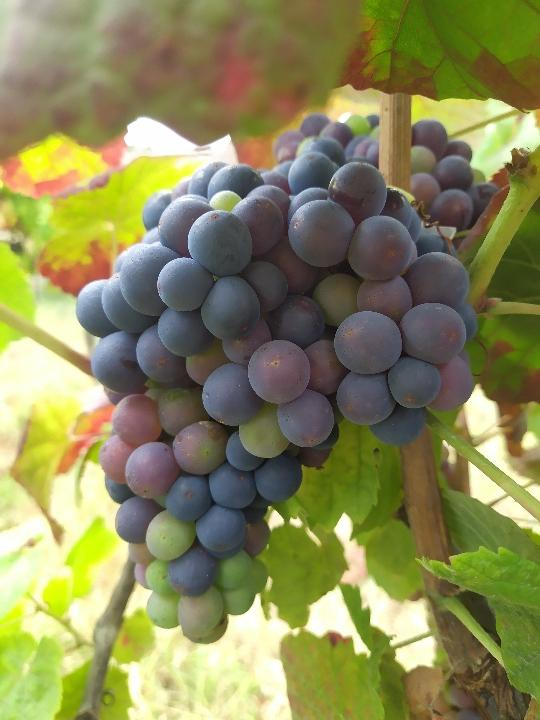grape: (73, 136, 478, 647)
